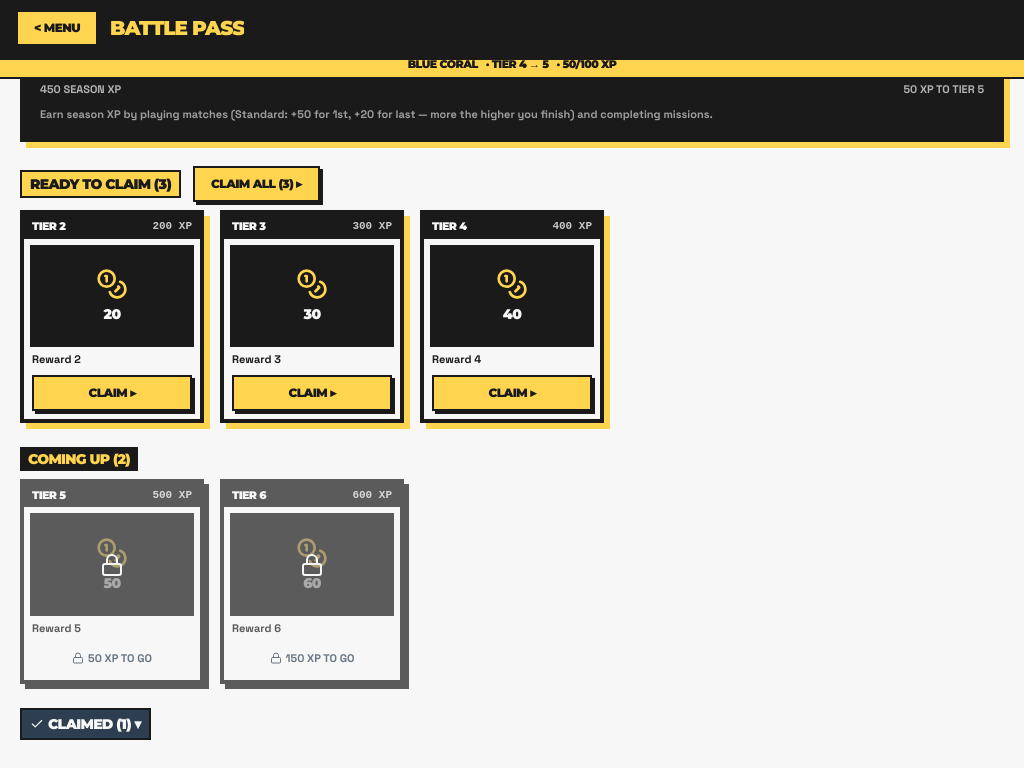
Test: layout › ready tiers come first, then locked ones; claimed are folded away
The width and height of the screenshot is (1024, 768).
(page scrolled)
Expected: the text "TIER 1" is not shown
Click the button "CLAIMED (1) ▾".
click(85, 724)  # box [20,708,151,740]
(page scrolled)
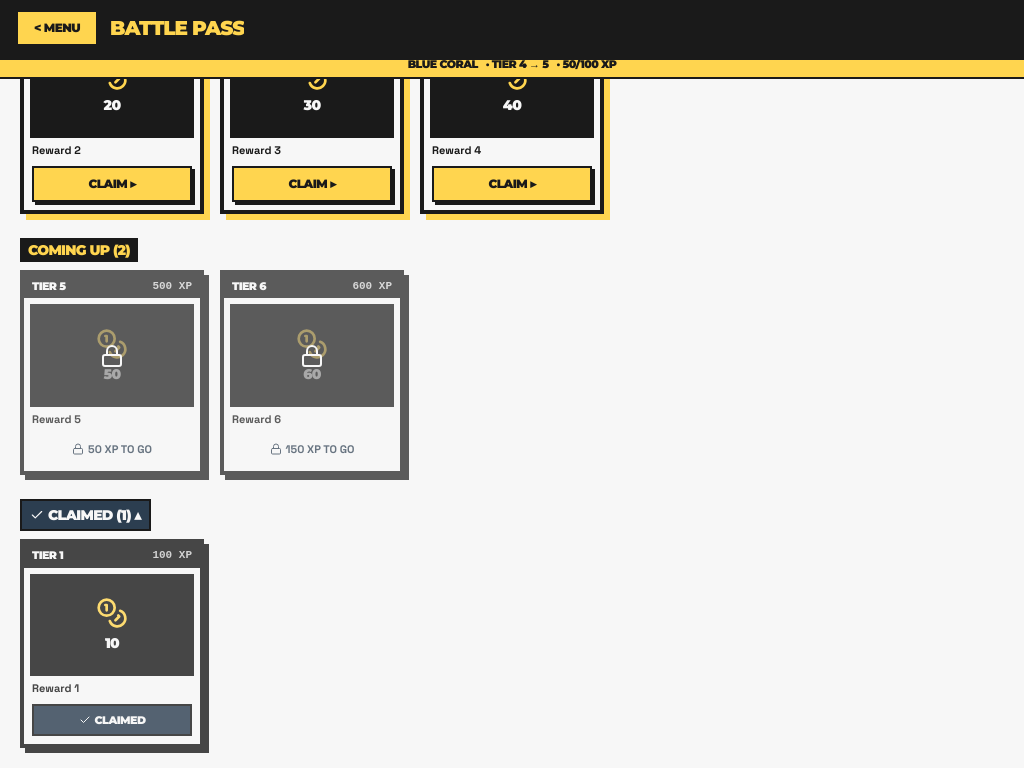
Expected: the text "TIER 1" is shown, [32,547,63,564]
